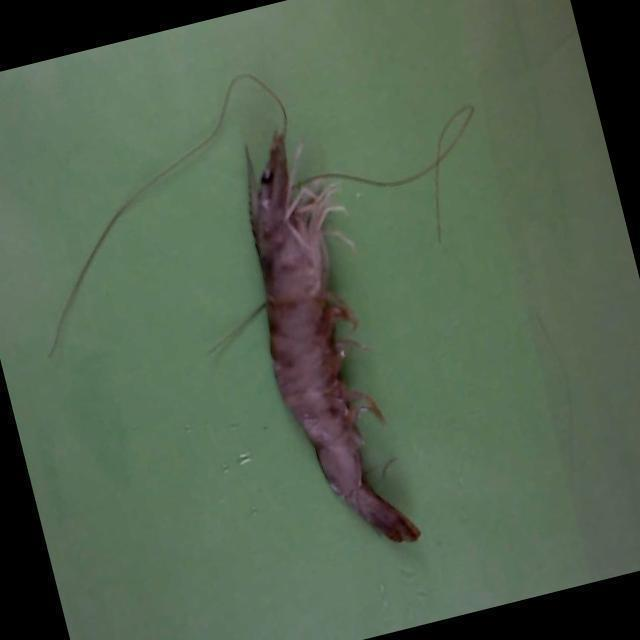shrimp: (247, 131, 420, 541)
